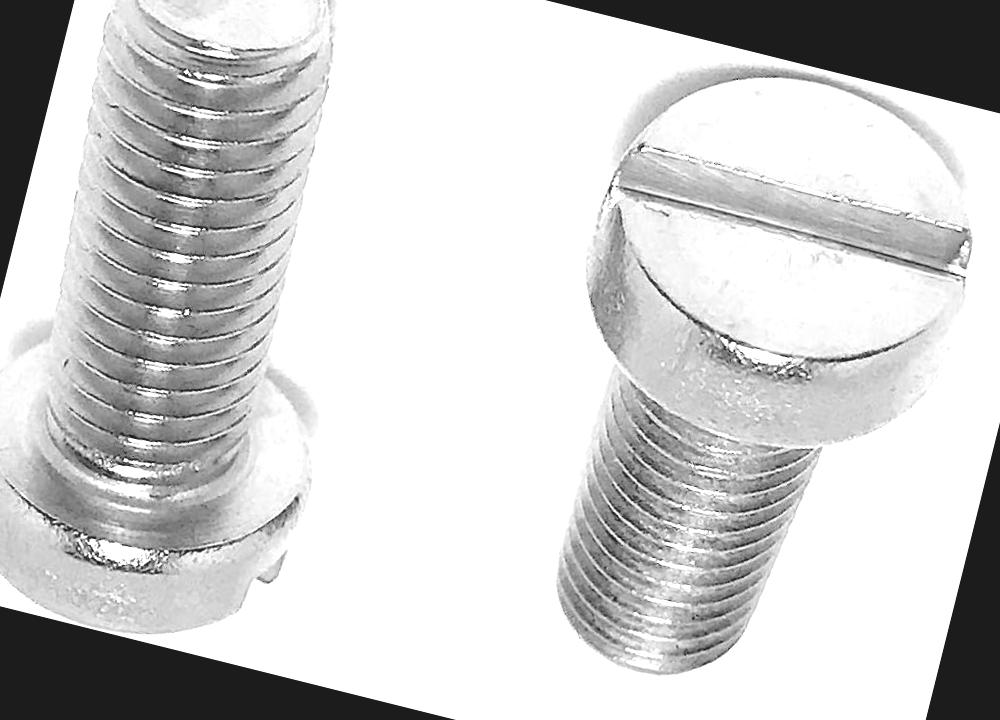screw: (583, 34, 1000, 401)
